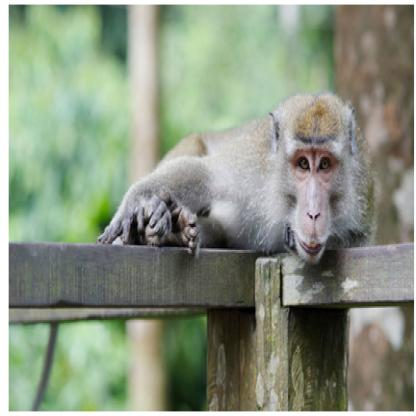monkey: (95, 90, 376, 267)
